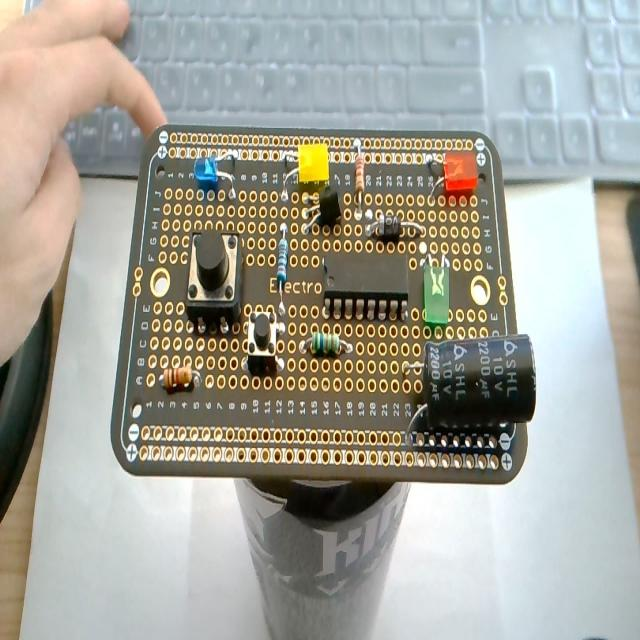Electrolytic capacitor: (420, 332, 538, 427)
IC: (322, 246, 407, 319)
diode: (367, 212, 424, 240)
led: (427, 153, 482, 205), (194, 153, 238, 200), (422, 261, 450, 333), (298, 142, 328, 194)
resistor: (301, 334, 351, 356), (276, 224, 289, 303), (160, 367, 200, 392), (352, 138, 364, 212)
switch: (186, 228, 242, 326), (246, 308, 282, 372)
transistor: (297, 182, 342, 230)
